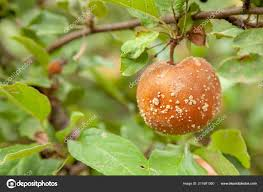damaged_apple: (133, 57, 225, 139)
